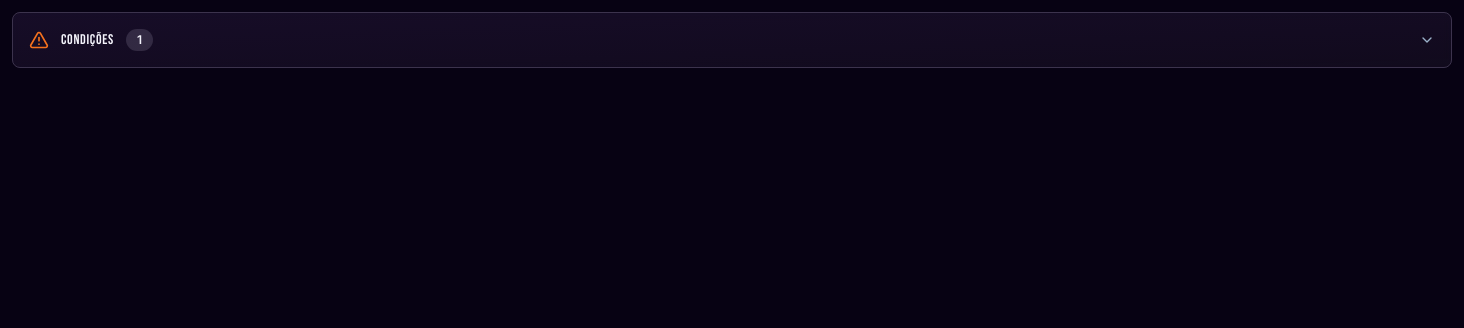
it: condições externas na interface desktop › mantém o nome e a descrição da condição desconhecida ao expandir a lista
Click the button "CONDIÇÕES 1" at (87, 40), box [13, 13, 1451, 67]
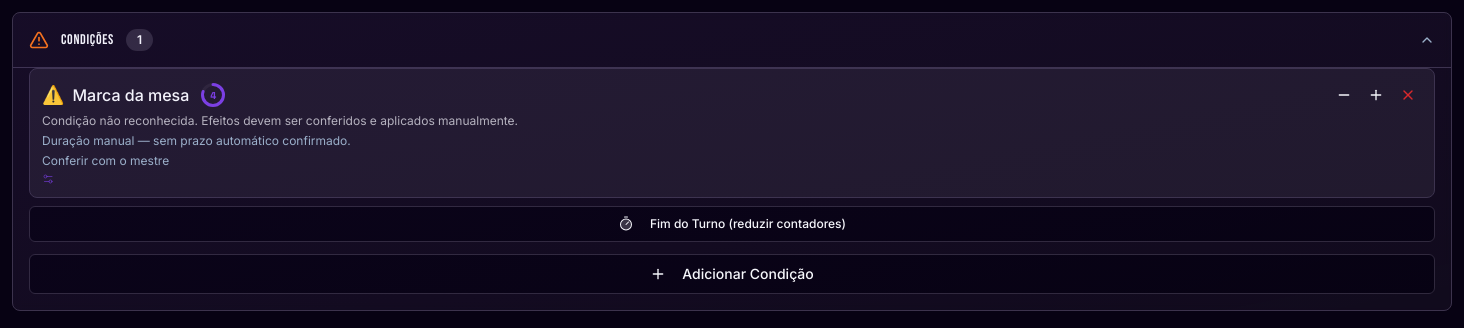
Check: the text "Marca da mesa" is shown, box [72, 83, 189, 107]
Check: the text "Condição não reconhecida" is shown, box [42, 113, 518, 128]
Check: the text "Conferir com o mestre" is shown, box [42, 153, 169, 168]
